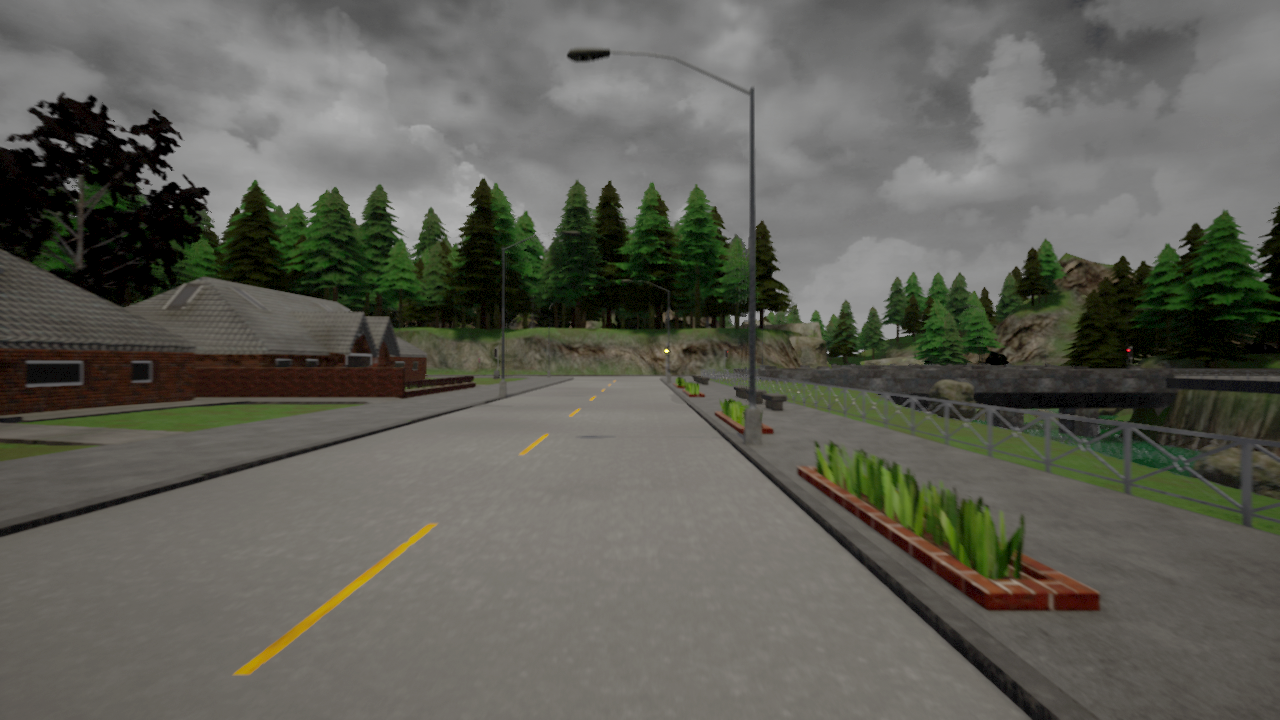yellow: (664, 345, 670, 357)
